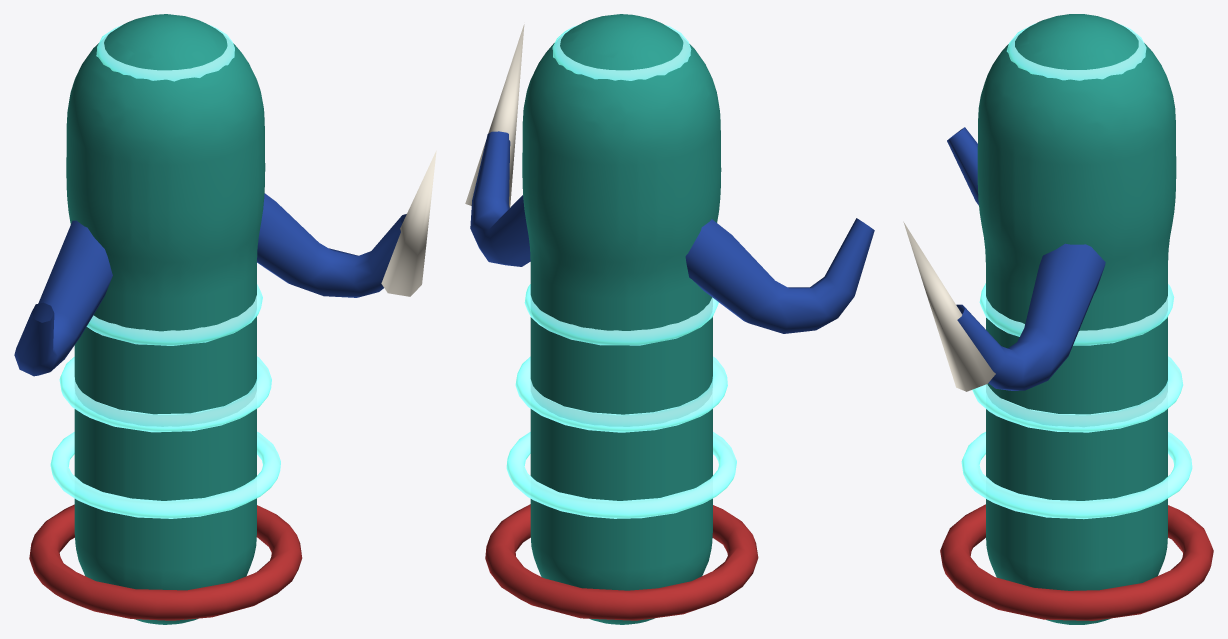
Rendered from elemeau.glb.
3 renders of one model, left to right at view 1: azimuth 30°, elevation 25°; view 2: azimuth 150°, elevation 25°; view 3: azimuth 270°, elevation 25°, orthographic.
Parts seen in each view (by area): view 1: turq, lapis, ether_soft, team, white; view 2: turq, lapis, ether_soft, team, white; view 3: turq, ether_soft, team, lapis, white.
Part boxes in pixels (bbox=[...]): turq: bbox=[66, 14, 265, 624]; lapis: bbox=[14, 193, 406, 376]; ether_soft: bbox=[50, 24, 280, 518]; team: bbox=[29, 504, 302, 620]; white: bbox=[381, 150, 436, 296]; turq: bbox=[522, 14, 721, 624]; lapis: bbox=[470, 131, 874, 333]; ether_soft: bbox=[506, 25, 736, 518]; team: bbox=[485, 504, 758, 620]; white: bbox=[465, 24, 524, 207]; turq: bbox=[977, 14, 1176, 624]; ether_soft: bbox=[961, 23, 1192, 519]; team: bbox=[940, 504, 1213, 620]; lapis: bbox=[947, 127, 1105, 390]; white: bbox=[903, 221, 995, 391].
Size of the model in its own units: 0.4785 by 0.6897 by 0.327.
